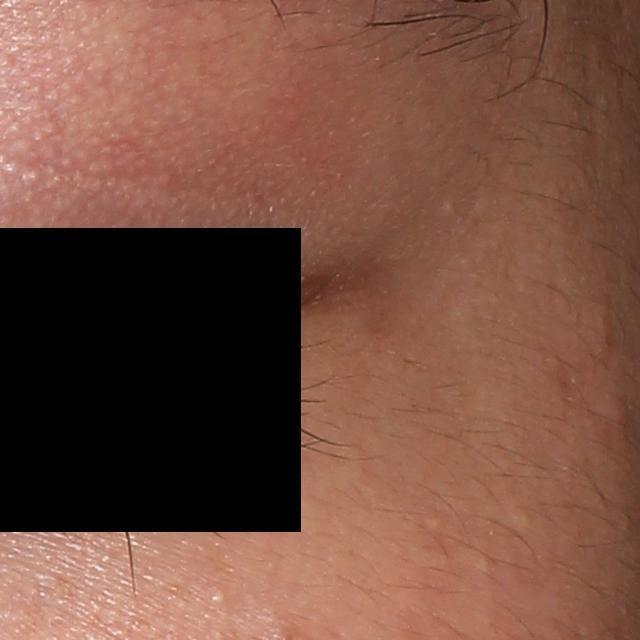comedo: (208, 588, 229, 606)
papule: (587, 386, 637, 437)
